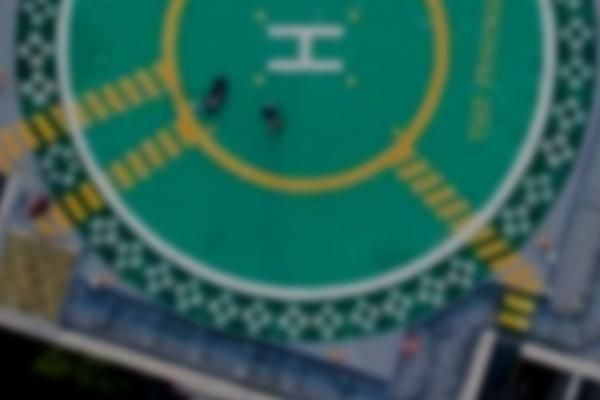Apron: (150, 1, 460, 206)
